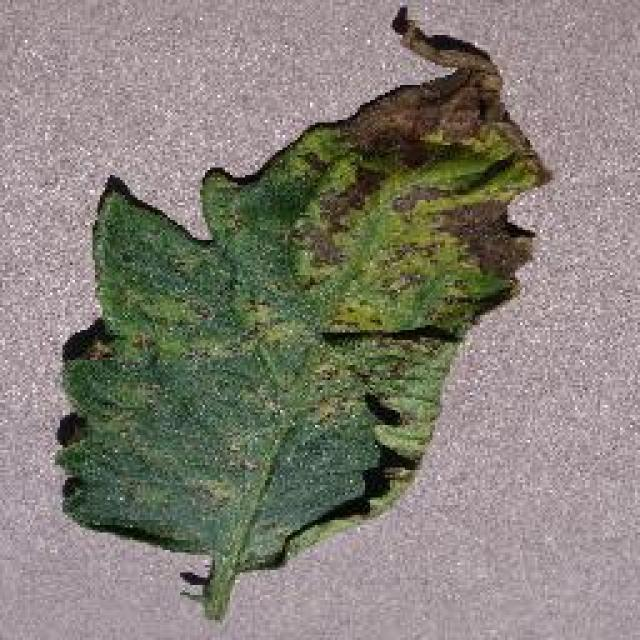Tomato Septoria spot leaf: (52, 13, 550, 565)
